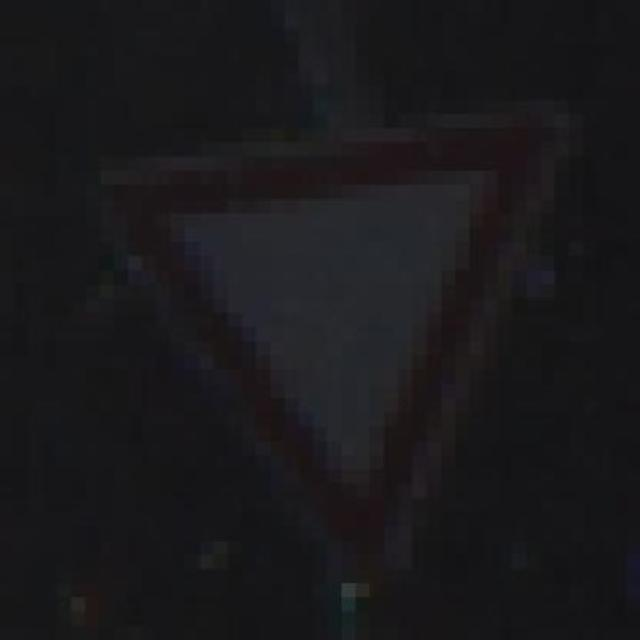Give Way: (85, 113, 598, 612)
